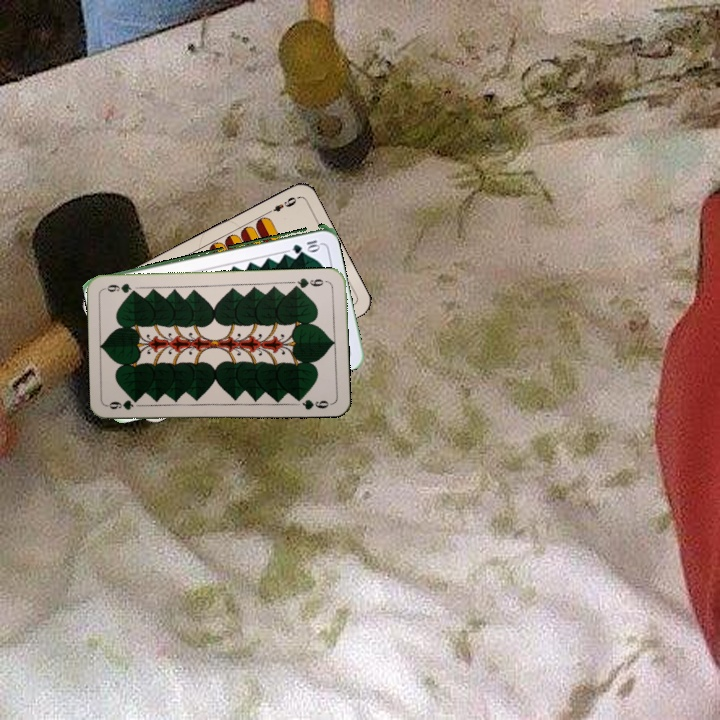E9: (263, 193, 299, 217)
G10: (289, 236, 323, 254)
G9: (290, 274, 330, 292), (105, 398, 136, 412)
